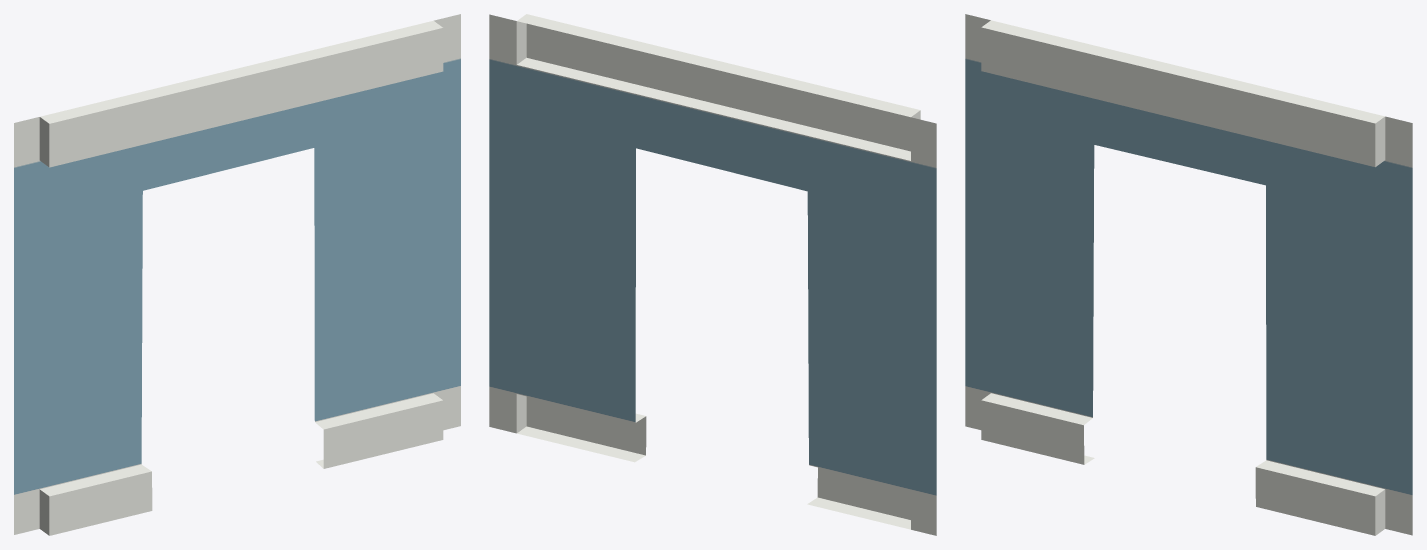
File: Wall_With_Door_hole_001.fbx
3 renders of one model, left to right at view 1: azimuth 30°, elevation 25°; view 2: azimuth 150°, elevation 25°; view 3: azimuth 330°, elevation 25°, orthographic.
Parts seen in each view (by area): view 1: Plane; view 2: Plane; view 3: Plane.
Boxes of the visible parts, x1,y1,x2,y2 form: Plane: (14, 14, 460, 535); Plane: (489, 14, 936, 535); Plane: (965, 14, 1412, 535).
Size of the model in its own units: 422 by 372 by 15.9.
